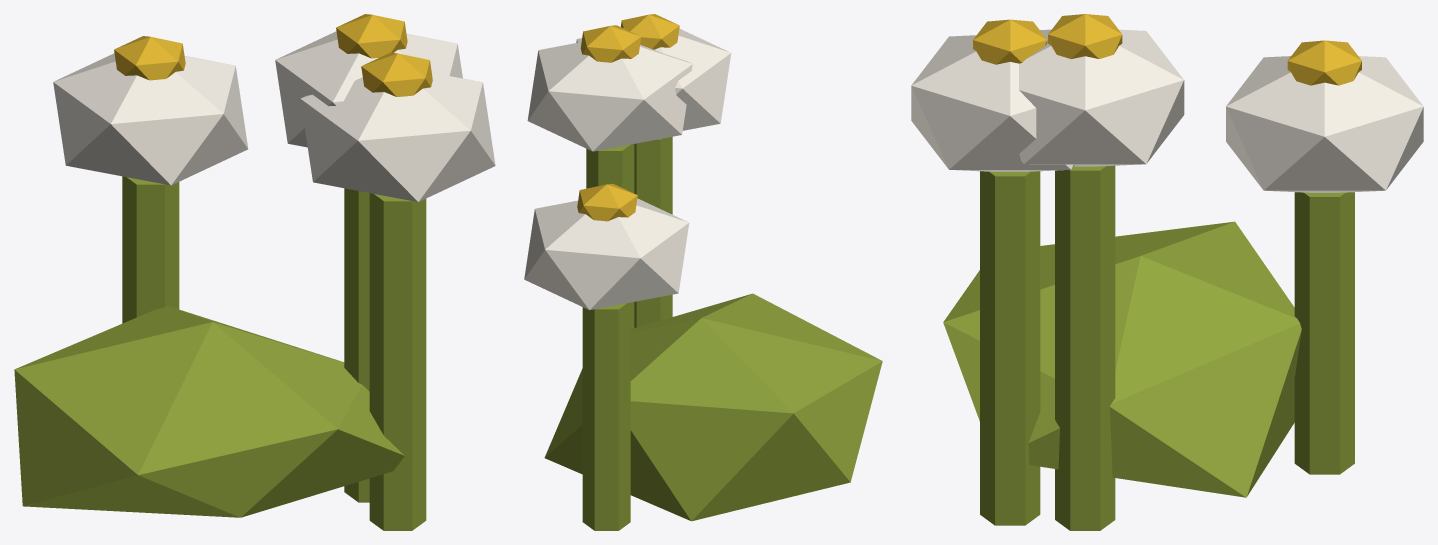
Rendered from prop_flowers_white.glb.
3 views of the same model, side by side, from view 1: azimuth 30°, elevation 25°; view 2: azimuth 150°, elevation 25°; view 3: azimuth 270°, elevation 25° (orthographic). The views are drawn at different scales.
Parts seen in each view (by area): view 1: fwh_leafmound, fwh_head2, fwh_head1, fwh_stem1, fwh_stem2, fwh_head0, fwh_stem0, fwh_eye2, fwh_eye1, fwh_eye0; view 2: fwh_leafmound, fwh_head2, fwh_head0, fwh_stem2, fwh_head1, fwh_stem1, fwh_stem0, fwh_eye2, fwh_eye0, fwh_eye1; view 3: fwh_leafmound, fwh_stem0, fwh_head2, fwh_stem1, fwh_head0, fwh_stem2, fwh_head1, fwh_eye0, fwh_eye2, fwh_eye1.
Boxes of the visible parts, left/top/right/bottom form: fwh_leafmound: left=14, top=306, right=404, bottom=517; fwh_head2: left=53, top=53, right=248, bottom=185; fwh_head1: left=300, top=73, right=495, bottom=201; fwh_stem1: left=369, top=193, right=426, bottom=530; fwh_stem2: left=122, top=176, right=179, bottom=323; fwh_head0: left=275, top=31, right=462, bottom=147; fwh_stem0: left=344, top=188, right=369, bottom=502; fwh_eye2: left=114, top=36, right=185, bottom=80; fwh_eye1: left=361, top=52, right=432, bottom=96; fwh_eye0: left=336, top=14, right=407, bottom=58; fwh_leafmound: left=544, top=293, right=882, bottom=521; fwh_head2: left=524, top=198, right=689, bottom=310; fwh_head0: left=527, top=42, right=692, bottom=151; fwh_stem2: left=582, top=302, right=630, bottom=530; fwh_head1: left=576, top=28, right=731, bottom=130; fwh_stem1: left=634, top=136, right=672, bottom=328; fwh_stem0: left=586, top=144, right=634, bottom=329; fwh_eye2: left=577, top=183, right=637, bottom=221; fwh_eye0: left=580, top=25, right=641, bottom=62; fwh_eye1: left=621, top=14, right=679, bottom=49; fwh_leafmound: left=943, top=221, right=1301, bottom=497; fwh_stem0: left=1055, top=165, right=1115, bottom=530; fwh_head2: left=1226, top=56, right=1423, bottom=192; fwh_stem1: left=980, top=171, right=1040, bottom=525; fwh_head0: left=1019, top=29, right=1184, bottom=166; fwh_stem2: left=1294, top=192, right=1354, bottom=474; fwh_head1: left=911, top=35, right=1074, bottom=171; fwh_eye0: left=1048, top=14, right=1122, bottom=58; fwh_eye2: left=1287, top=40, right=1361, bottom=85; fwh_eye1: left=973, top=19, right=1047, bottom=64.
Size of the model in its own units: 0.3597 by 0.408 by 0.3746.
